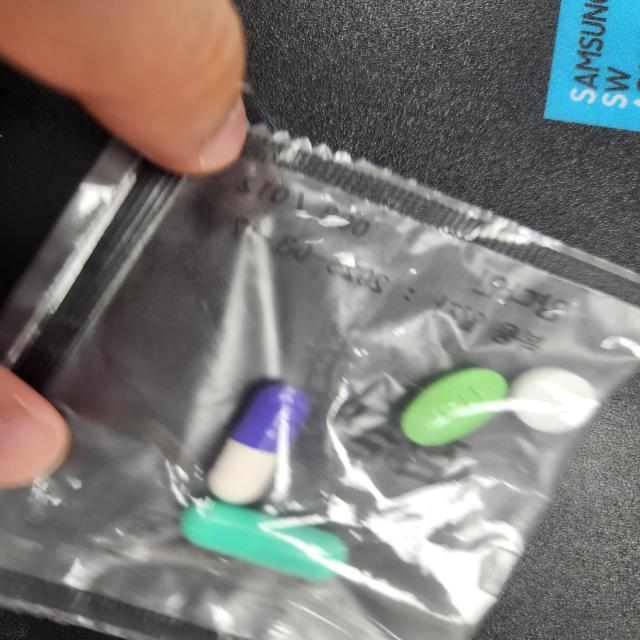러키펜정: (509, 369, 599, 431)
씨엠지세파클러캡슐: (207, 384, 309, 505)
에르도캡슐: (179, 500, 350, 585)
휴티렌정: (397, 367, 510, 449)
